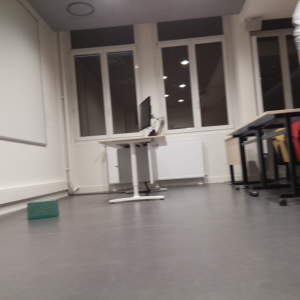small: (25, 197, 63, 221)
